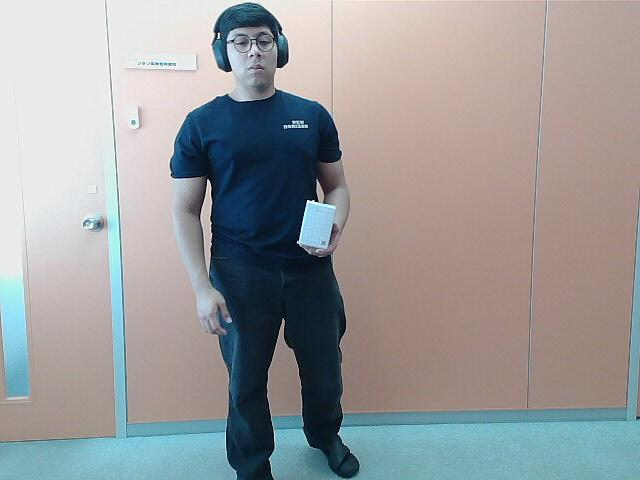Blind_box: (298, 196, 334, 256)
